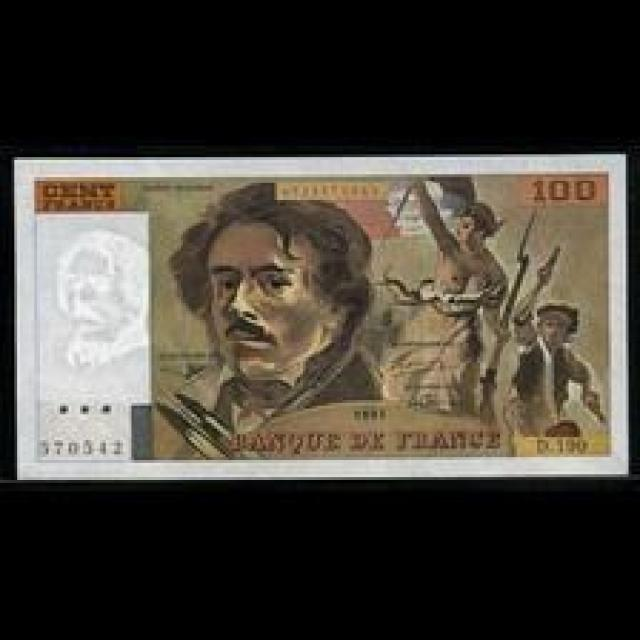banknote: (10, 153, 639, 480), (523, 173, 606, 208), (40, 178, 117, 201)
